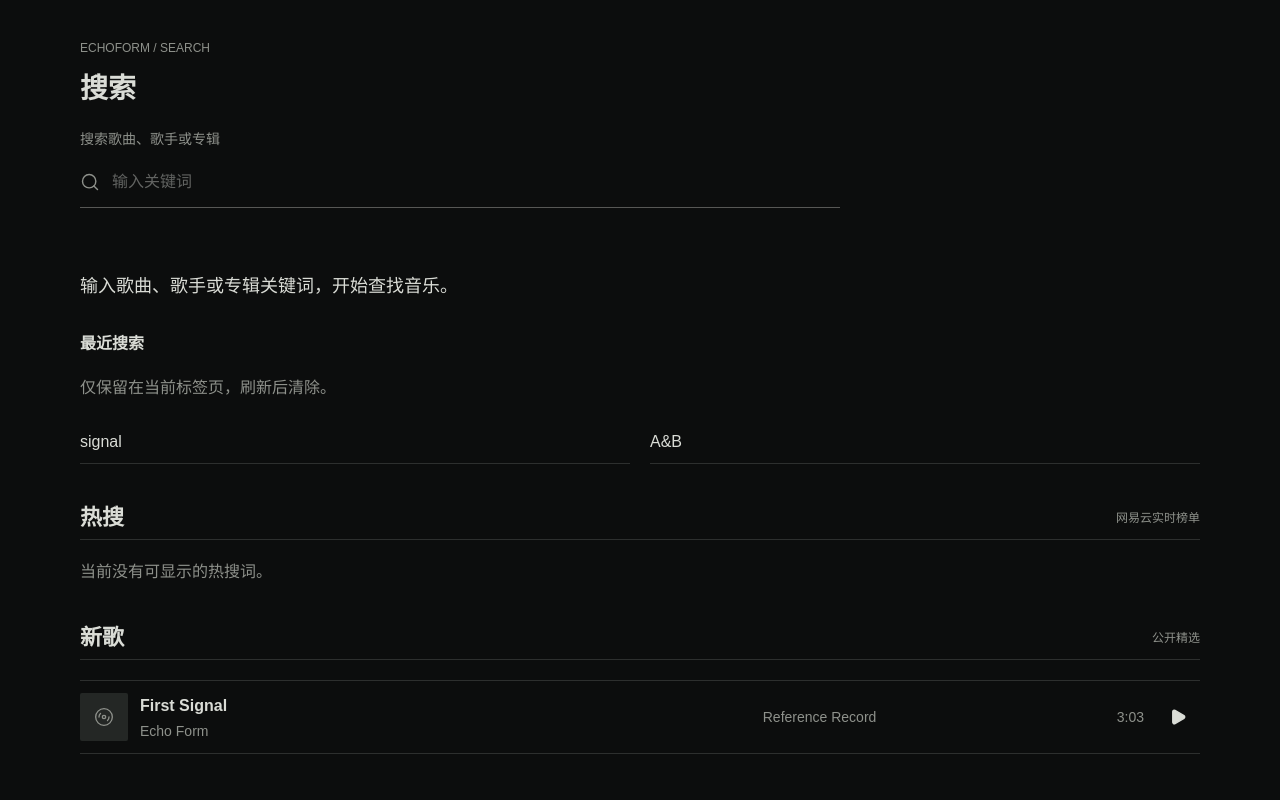
it: SearchExperience › ignores a stale response after rapid input
Type "old" into the search field labelled "搜索歌曲、歌手或专辑". click: (464, 182)
box: left=112, top=170, right=816, bottom=194
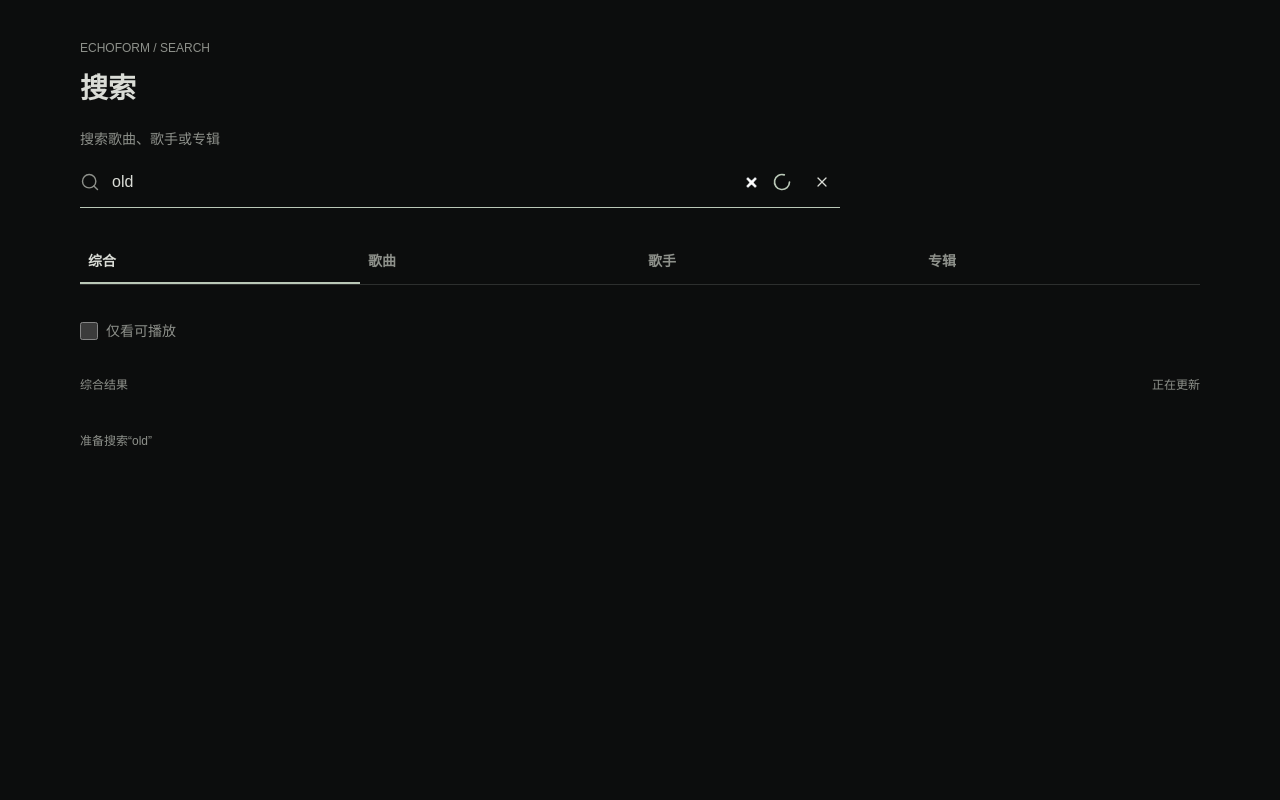
Clear the search field labelled "搜索歌曲、歌手或专辑". click: (436, 182)
box: left=112, top=170, right=760, bottom=194
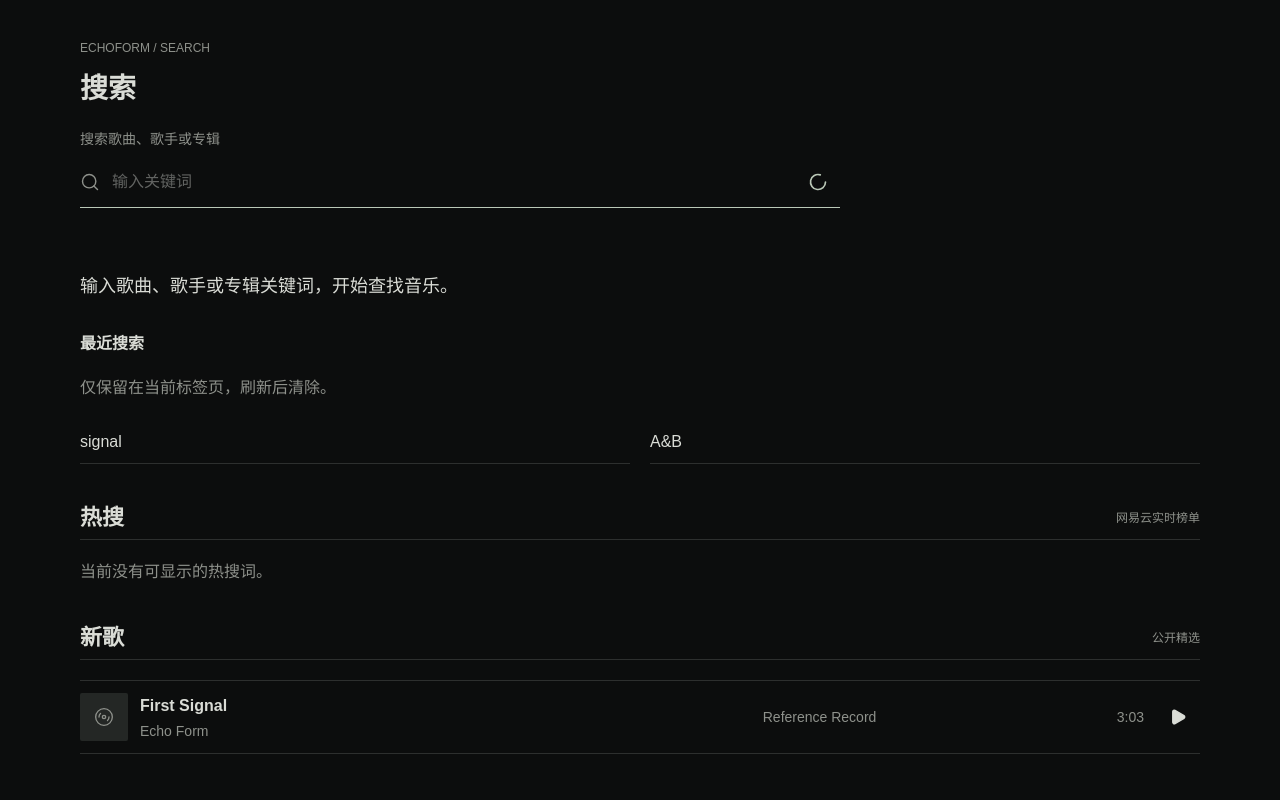
Type "fresh" into the search field labelled "搜索歌曲、歌手或专辑". click: (454, 182)
box: left=112, top=170, right=796, bottom=194
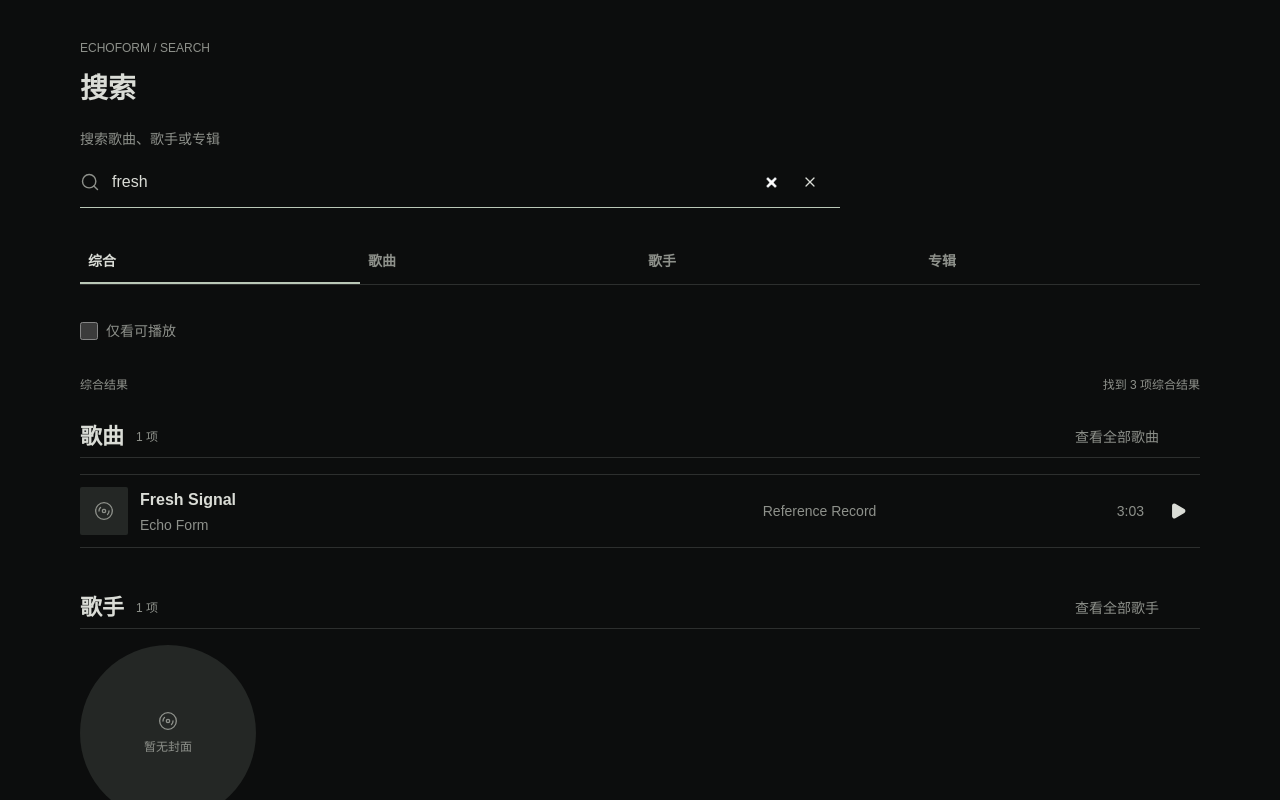
Expected: the text "Fresh Signal" is shown, left=140, top=488, right=236, bottom=512
Expected: the link "First Signal" is gone
